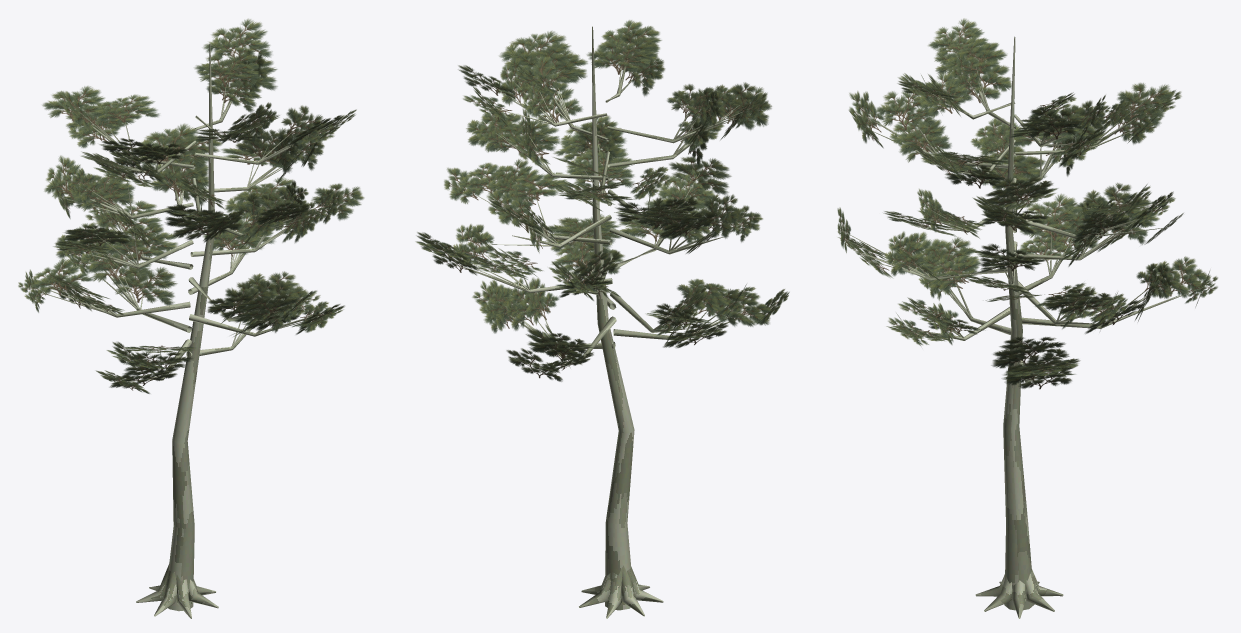
The model's file is lacebark_pine.glb.
3 renders of one model, left to right at view 1: azimuth 30°, elevation 25°; view 2: azimuth 150°, elevation 25°; view 3: azimuth 270°, elevation 25°, orthographic. The views are drawn at different scales.
Visible parts, largest first — view 1: lacebark_pine foliage, lacebark_pine wood; view 2: lacebark_pine foliage, lacebark_pine wood; view 3: lacebark_pine foliage, lacebark_pine wood.
Part boxes in pixels (x1,y1,x2,y2): lacebark_pine foliage: [18, 18, 364, 393]; lacebark_pine wood: [34, 43, 337, 618]; lacebark_pine foliage: [415, 20, 789, 381]; lacebark_pine wood: [455, 26, 772, 618]; lacebark_pine foliage: [837, 18, 1217, 389]; lacebark_pine wood: [844, 36, 1202, 618].
Size of the model in its own units: 16.38 by 27.32 by 17.1.
2 materials, 2 textured.
